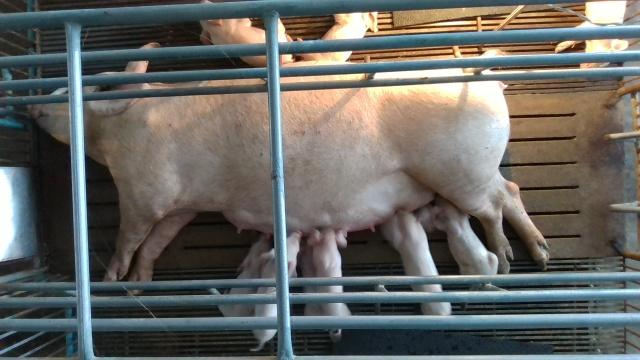piglet: (382, 208, 451, 315), (199, 0, 295, 67), (250, 231, 301, 352), (434, 194, 499, 275), (307, 228, 353, 338), (555, 0, 629, 68), (209, 235, 270, 317), (297, 12, 382, 60)
sow-sleep-lactate: (24, 44, 550, 293)
